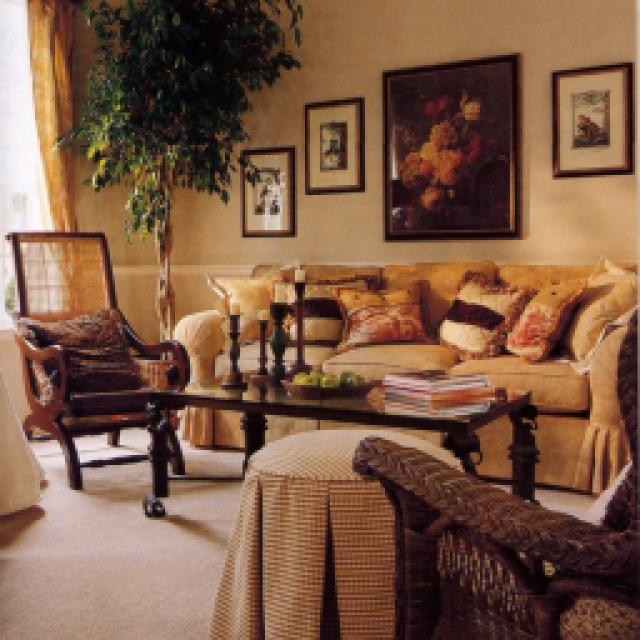armchair crop: (350, 312, 635, 632), (2, 228, 182, 485)
candle holder: (215, 298, 245, 385), (265, 282, 290, 375)
curtain crop: (25, 0, 75, 225)
magazines: (382, 365, 502, 410)
ottoman: (205, 428, 465, 635)
painting crop: (380, 50, 518, 238), (548, 58, 630, 178), (300, 95, 360, 192), (240, 145, 292, 232)
pillow occluded: (12, 305, 145, 392), (558, 258, 635, 368), (430, 272, 532, 355), (325, 275, 430, 350), (502, 275, 585, 355), (285, 278, 362, 345)
plant -x: (62, 0, 292, 328)
plate food: (275, 368, 378, 395)
small table part: (138, 365, 538, 512)
sofa bed: (170, 260, 632, 492)
